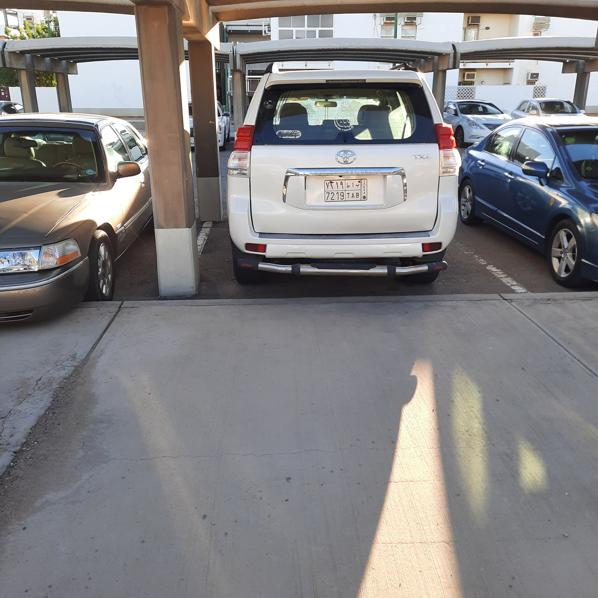numberplate: (324, 179, 368, 201)
